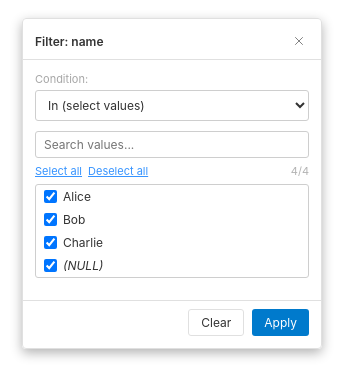
Scenario: FilterPopup › IN filter with distinct values › Deselect all button works
Select "In (select values)" in the dropdown at (172, 106), box top-left (35, 90), bottom-right (309, 121)
Click the button "Deselect all" at (118, 171), box top-left (88, 164), bottom-right (148, 178)
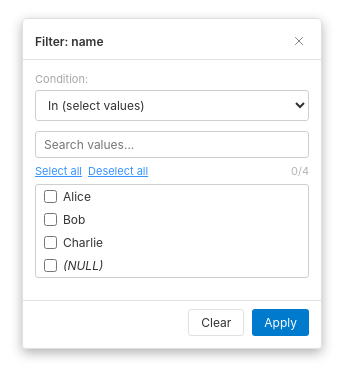
Expected: the checkbox labelled "Alice" is not checked, top-left (44, 190), bottom-right (57, 203)
Expected: the checkbox labelled "Bob" is not checked, top-left (44, 213), bottom-right (57, 226)
Expected: the checkbox labelled "Charlie" is not checked, top-left (44, 236), bottom-right (57, 249)
